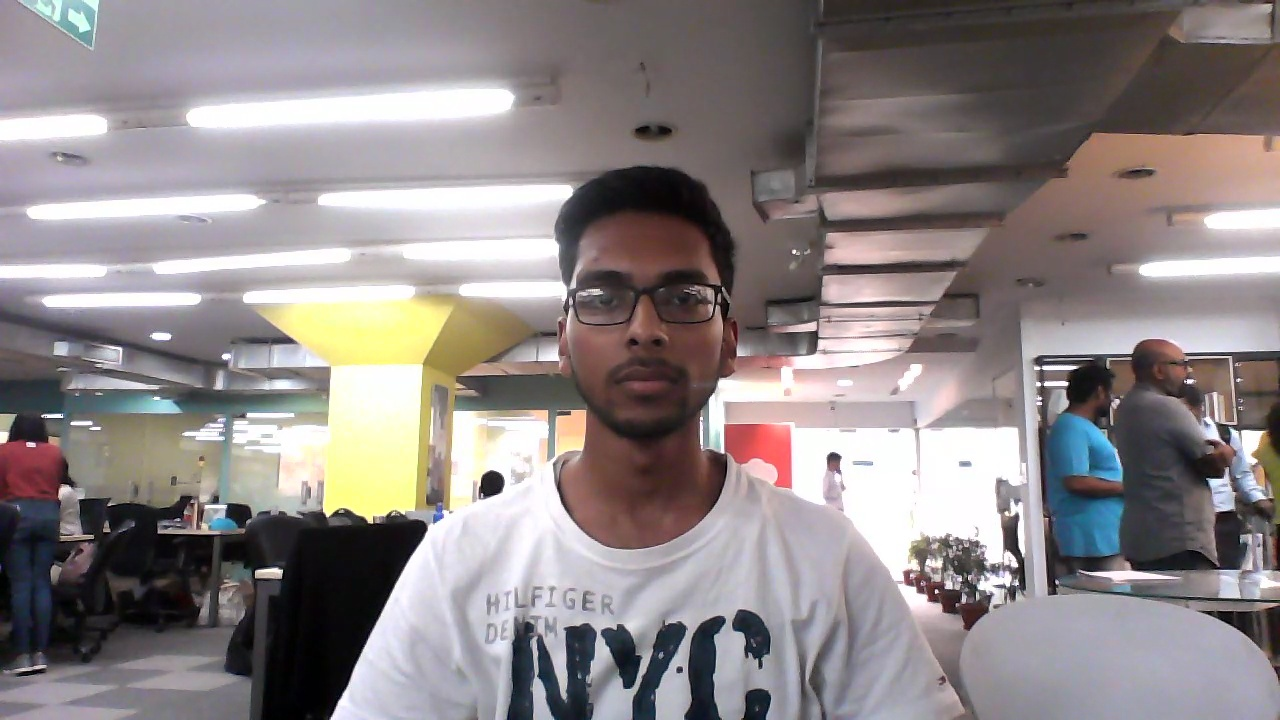open: (551, 156, 748, 459)
